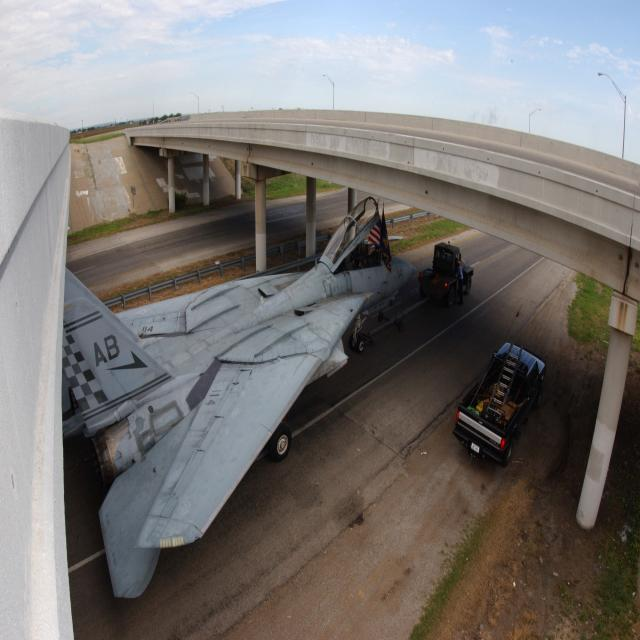MIL_Plane: (62, 196, 416, 599)
